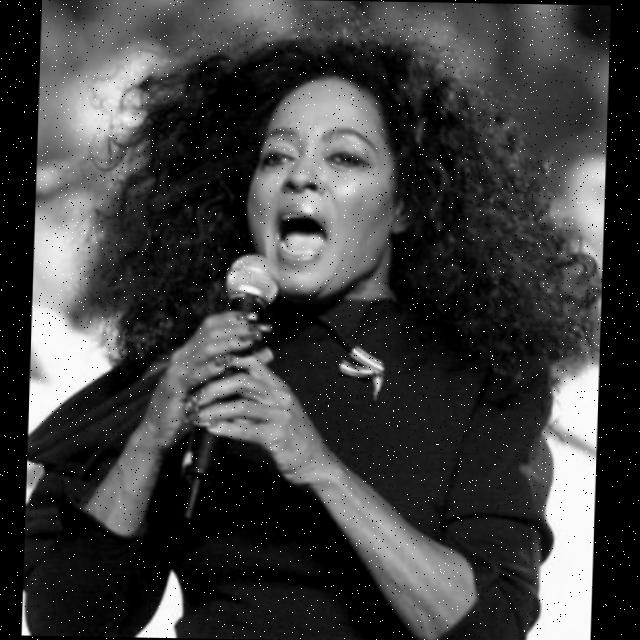face: (238, 67, 422, 301)
